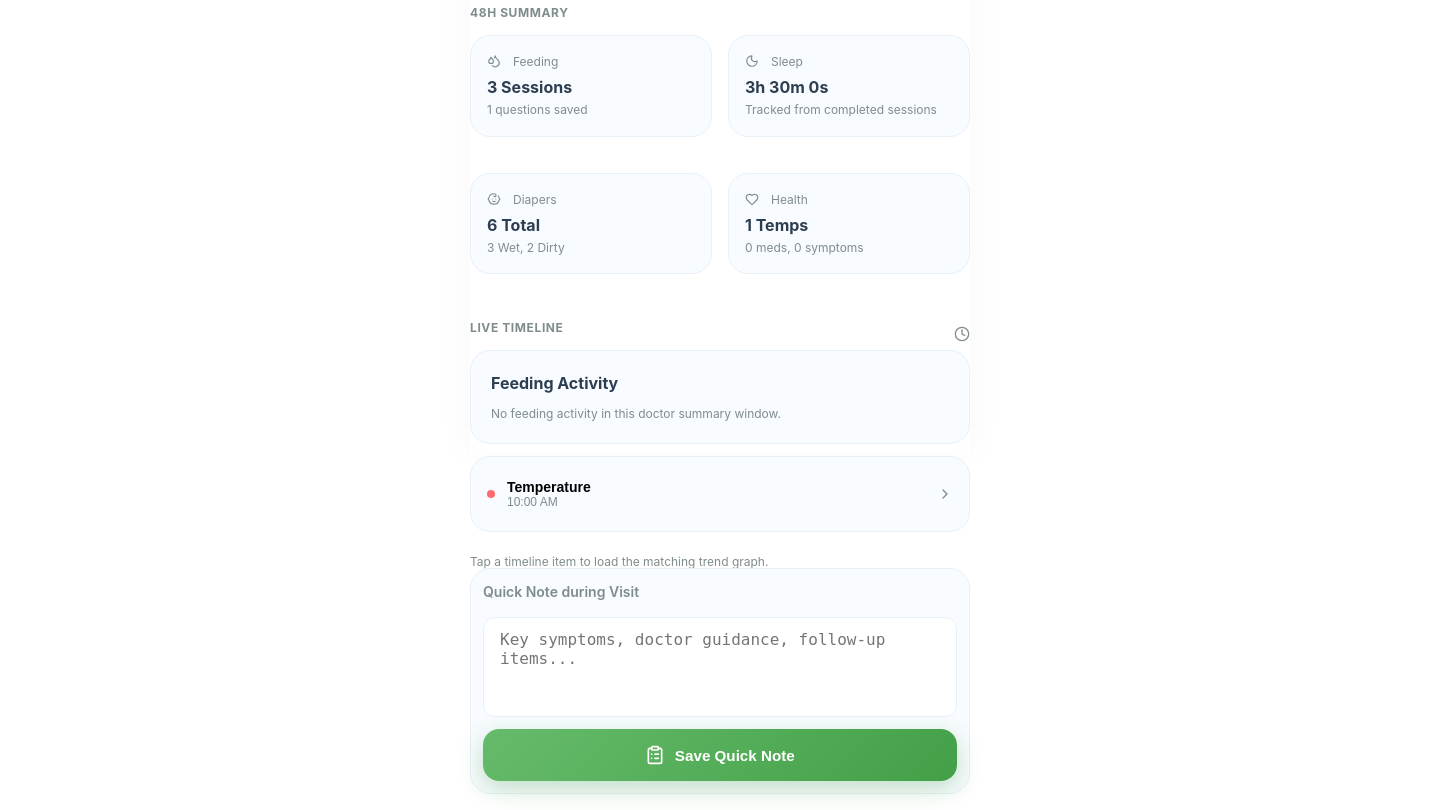
Connected Screens › DoctorScreen shows no-appointment state and cached summary data
Click the button "Temperature 10:00 AM" at (549, 487), box [479,466,961,524]
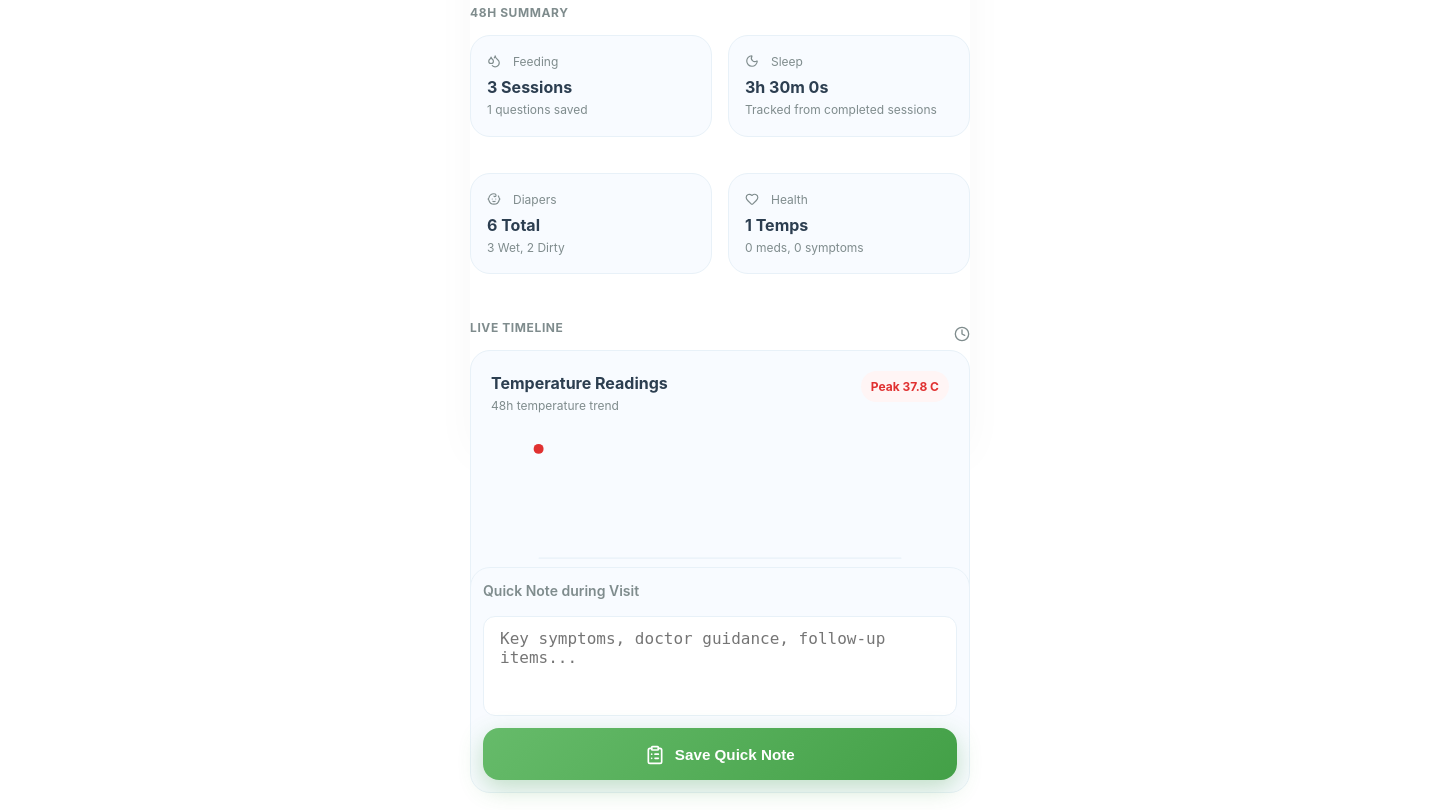
Expected: the text "Temperature Readings" is shown, [491,371,668,396]
